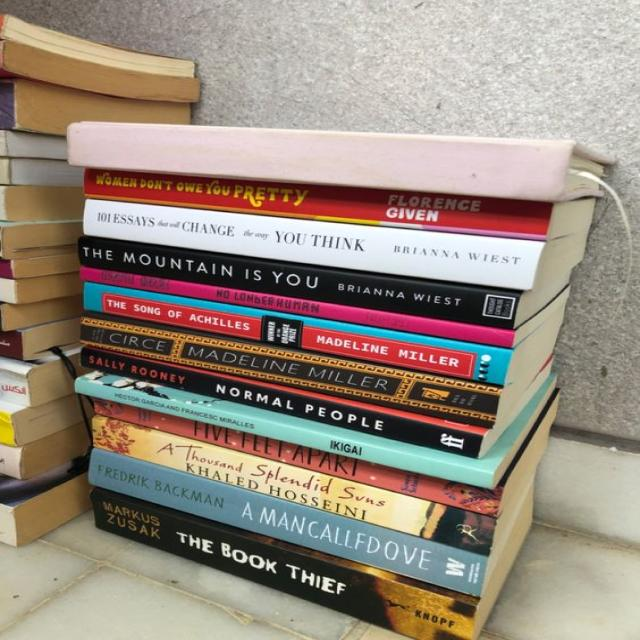book: (90, 448, 488, 599), (91, 491, 476, 640), (93, 417, 495, 556), (94, 398, 503, 517), (75, 379, 493, 490), (80, 316, 502, 422), (81, 349, 483, 458), (83, 285, 511, 385), (85, 201, 544, 292), (79, 240, 521, 328), (66, 125, 573, 201), (79, 266, 515, 350), (86, 168, 556, 241)
